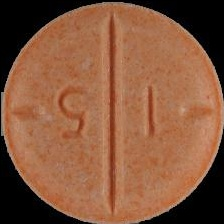0555-0777: (0, 0, 224, 224)
